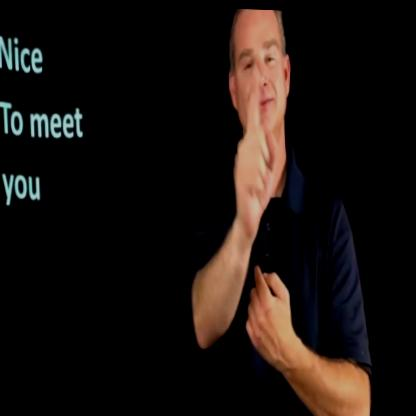NiceToMeetYou: (214, 73, 300, 372)
